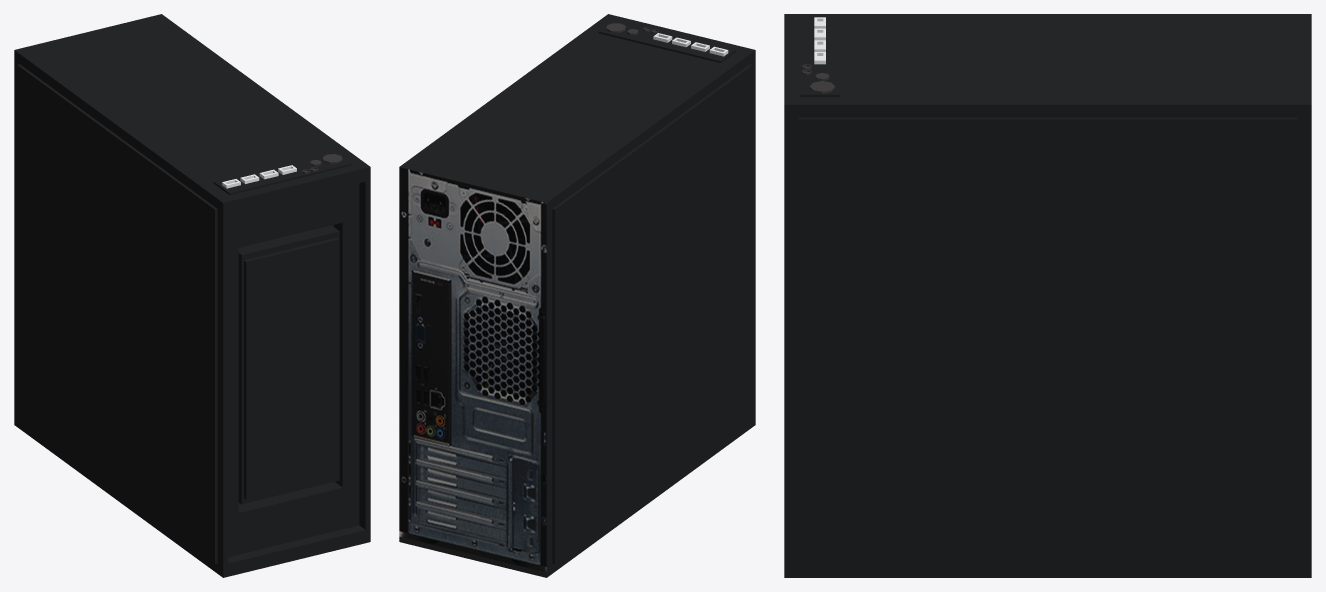
Rendered from PC_Case.fbx.
3 renders of one model, left to right at view 1: azimuth 30°, elevation 25°; view 2: azimuth 150°, elevation 25°; view 3: azimuth 270°, elevation 25°, orthographic. The views are drawn at different scales.
Visible parts, largest first — view 1: Pc_Case; view 2: Pc_Case; view 3: Pc_Case.
Boxes of the visible parts, box(x1,y1,x2,y2) form: Pc_Case: box(14, 14, 370, 577); Pc_Case: box(399, 14, 755, 577); Pc_Case: box(784, 14, 1311, 577).
Bounding box in the file's own units: 20.71 × 49.23 × 49.1.
